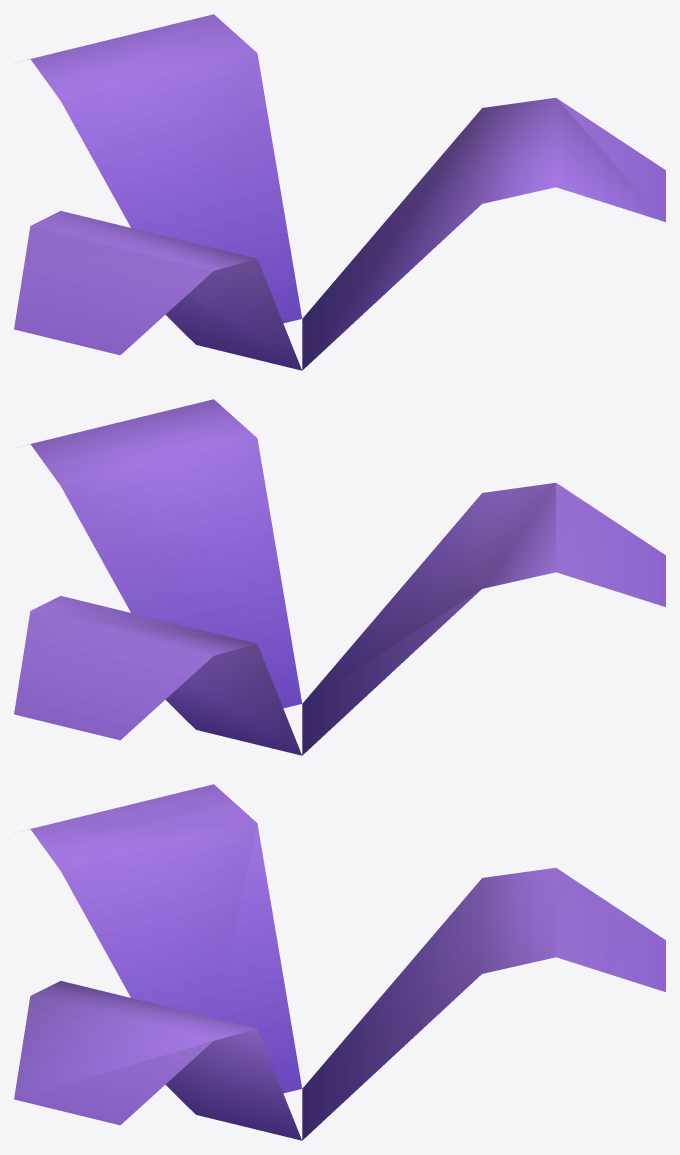
The model's file is planta roxo.glb.
3 views of the same model, one above another, from view 1: azimuth 30°, elevation 25°; view 2: azimuth 150°, elevation 25°; view 3: azimuth 270°, elevation 25° (orthographic).
Parts seen in each view (by area): view 1: plant; view 2: plant; view 3: plant.
Part boxes in pixels (x1=…): plant: x1=14, y1=14, x2=665, y2=370; plant: x1=14, y1=399, x2=665, y2=755; plant: x1=14, y1=784, x2=665, y2=1140.
Bounding box in the file's own units: 0.5514 × 0.1635 × 0.4775.
Materials: 1 (1 with a texture image).
